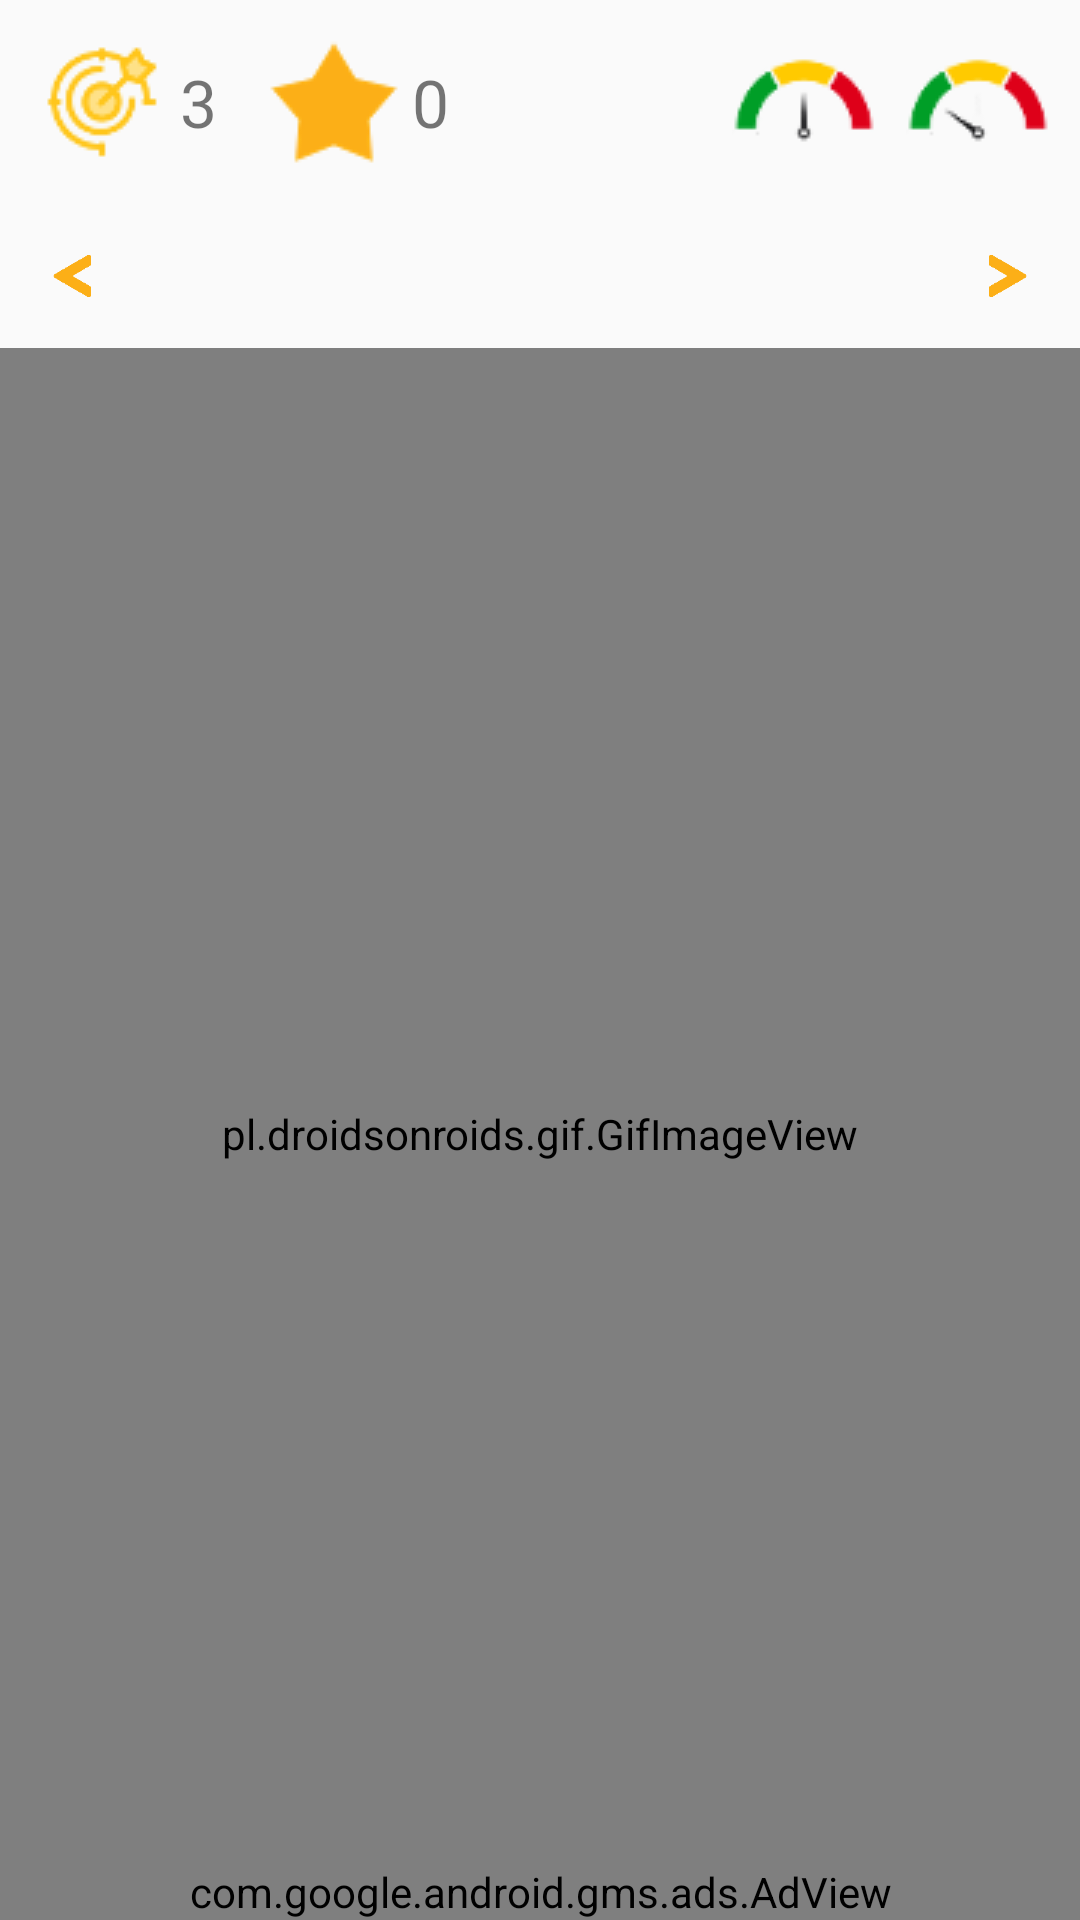

Icons on this 1080 x 1920 Android screen, each with the point to tap as (x,y):
next: (1008,276)
prev: (72,276)
speed low: (978,100)
speed medium: (804,100)
